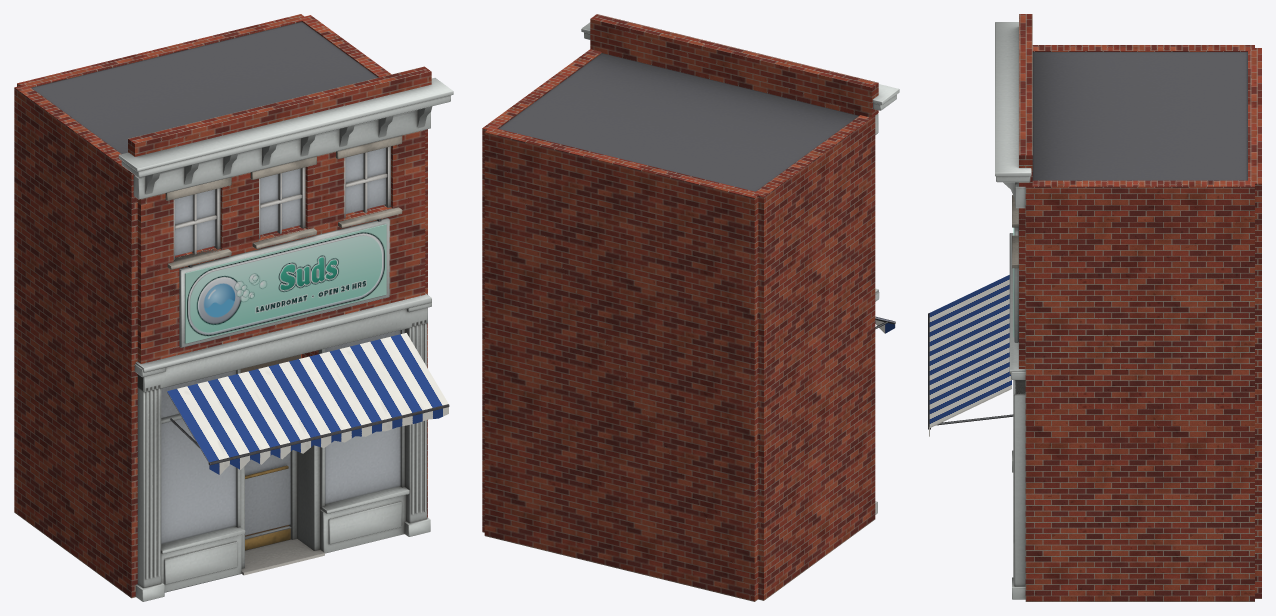
The model's file is WFShopSuds.fbx.
The picture shows the model from 3 angles, left to right: view 1: azimuth 30°, elevation 25°; view 2: azimuth 150°, elevation 25°; view 3: azimuth 270°, elevation 25°; orthographic projection. The views are drawn at different scales.
Parts seen in each view (by area): view 1: WFShopSuds_Walls, WFShopSuds_Main, WFShopSuds_Awning, WFShopSuds_Glass, WFShopSuds_Sign; view 2: WFShopSuds_Walls, WFShopSuds_Main; view 3: WFShopSuds_Walls, WFShopSuds_Main, WFShopSuds_Awning.
Boxes of the visible parts, x1,y1,x2,y2 form: WFShopSuds_Walls: [14, 14, 431, 598]; WFShopSuds_Main: [31, 22, 453, 601]; WFShopSuds_Awning: [167, 333, 448, 474]; WFShopSuds_Glass: [161, 147, 400, 543]; WFShopSuds_Sign: [185, 224, 386, 343]; WFShopSuds_Walls: [482, 14, 878, 601]; WFShopSuds_Main: [498, 22, 899, 514]; WFShopSuds_Walls: [1019, 14, 1261, 601]; WFShopSuds_Main: [928, 22, 1247, 599]; WFShopSuds_Awning: [929, 275, 1011, 436].
Size of the model in its own units: 1560 by 2150 by 1456.
